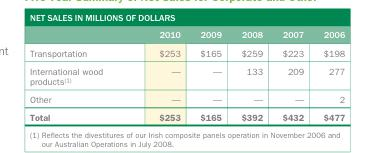table: (29, 29, 344, 122)
table column: (29, 29, 130, 122), (130, 29, 189, 122), (189, 29, 230, 122), (230, 29, 271, 122), (271, 29, 312, 122), (312, 29, 344, 122)
table column header: (29, 29, 344, 43)
table row: (29, 61, 344, 90), (29, 43, 344, 61), (29, 90, 344, 108), (29, 29, 344, 43), (29, 108, 344, 122)
